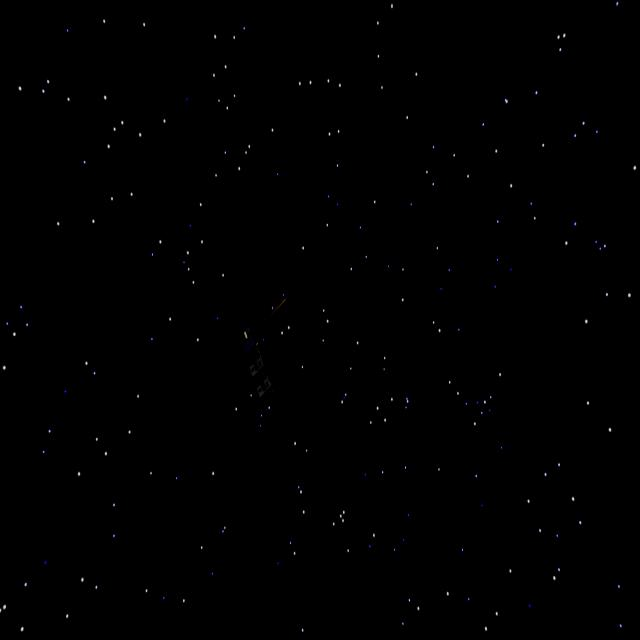satellite: (230, 282, 294, 411)
